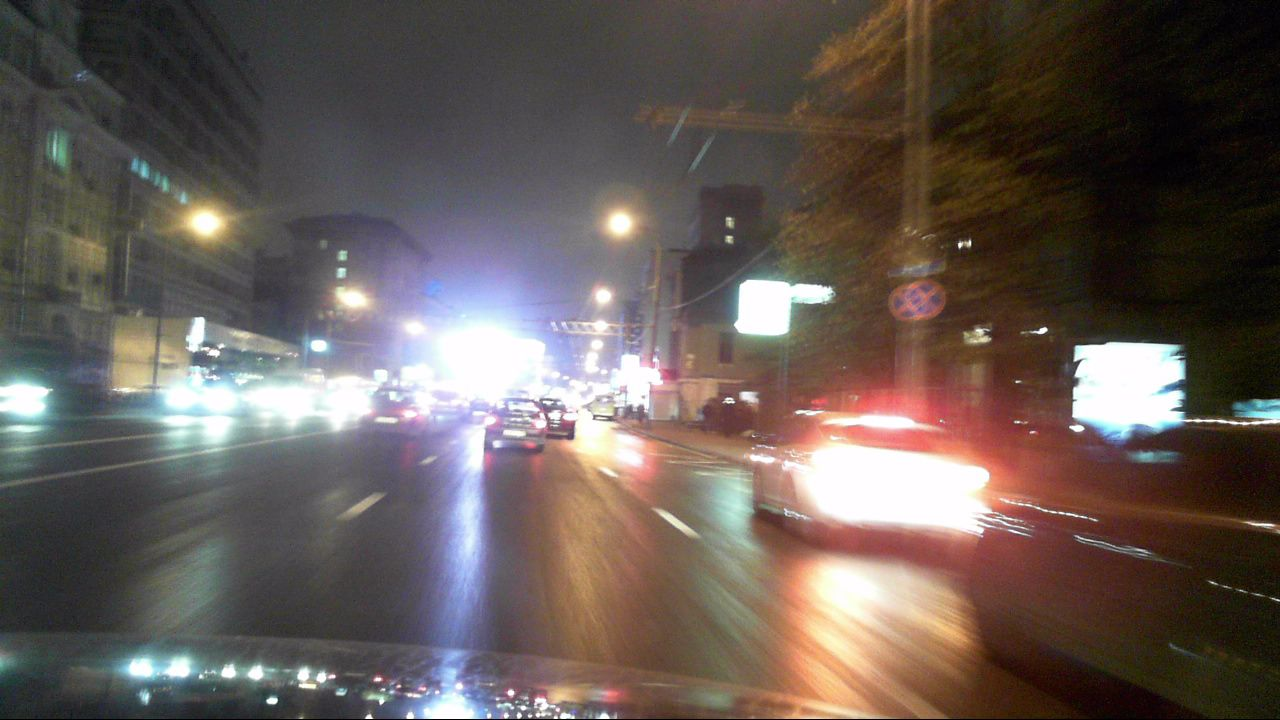No Parking: (902, 278, 946, 318)
